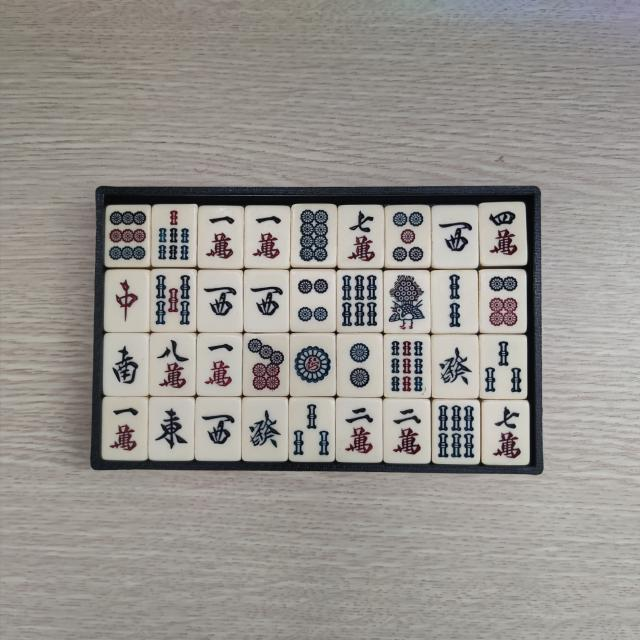hdg: (248, 400, 286, 458), (436, 338, 474, 394)
hdr: (109, 273, 145, 328)
hwe: (152, 402, 192, 456)
hws: (106, 338, 144, 392)
hww: (201, 274, 240, 329), (249, 274, 288, 328), (436, 209, 474, 264), (200, 402, 237, 458)
sb1: (386, 272, 426, 331)
sb2: (436, 272, 474, 330)
sb3: (484, 338, 524, 396), (292, 402, 332, 459)
sb5: (154, 271, 194, 329)
sb6: (436, 403, 476, 460), (339, 274, 379, 330)
sb7: (156, 208, 194, 264)
sb9: (389, 337, 427, 394)
sc1: (106, 401, 143, 457), (248, 209, 285, 265), (201, 336, 238, 391), (203, 208, 239, 264)
sc2: (390, 403, 428, 459), (341, 402, 378, 458)
sc4: (484, 205, 522, 260)
sc7: (488, 405, 526, 462), (341, 207, 378, 264)
sc8: (154, 335, 194, 392)
sd1: (293, 338, 334, 394)
sd2: (340, 338, 378, 393)
sd4: (296, 274, 334, 329)
sd5: (388, 207, 426, 264)
sd6: (485, 272, 522, 330)
sd7: (247, 336, 286, 393)
sd8: (298, 206, 334, 264)
sd9: (107, 210, 147, 265)
